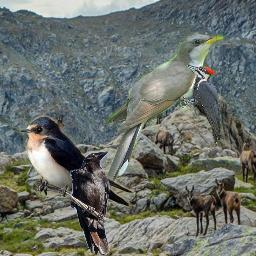Crow: (70, 150, 110, 255)
Cuckoo: (102, 34, 223, 191)
Swallow: (19, 114, 134, 210)
Woodpecker: (180, 64, 224, 145)
